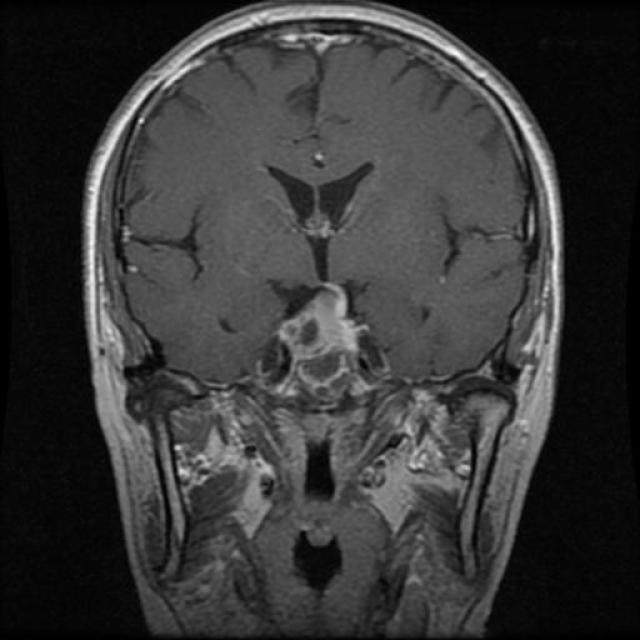pituitary: (258, 276, 382, 404)
